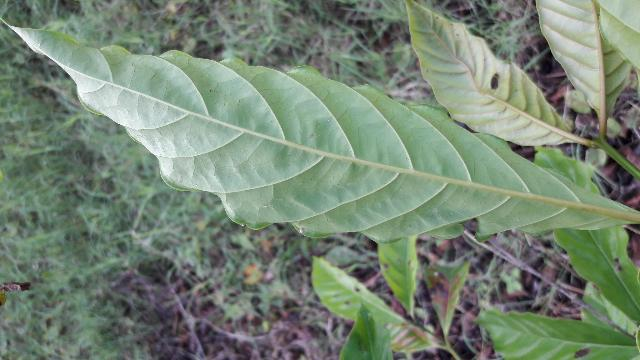healthy: (11, 23, 638, 241)
